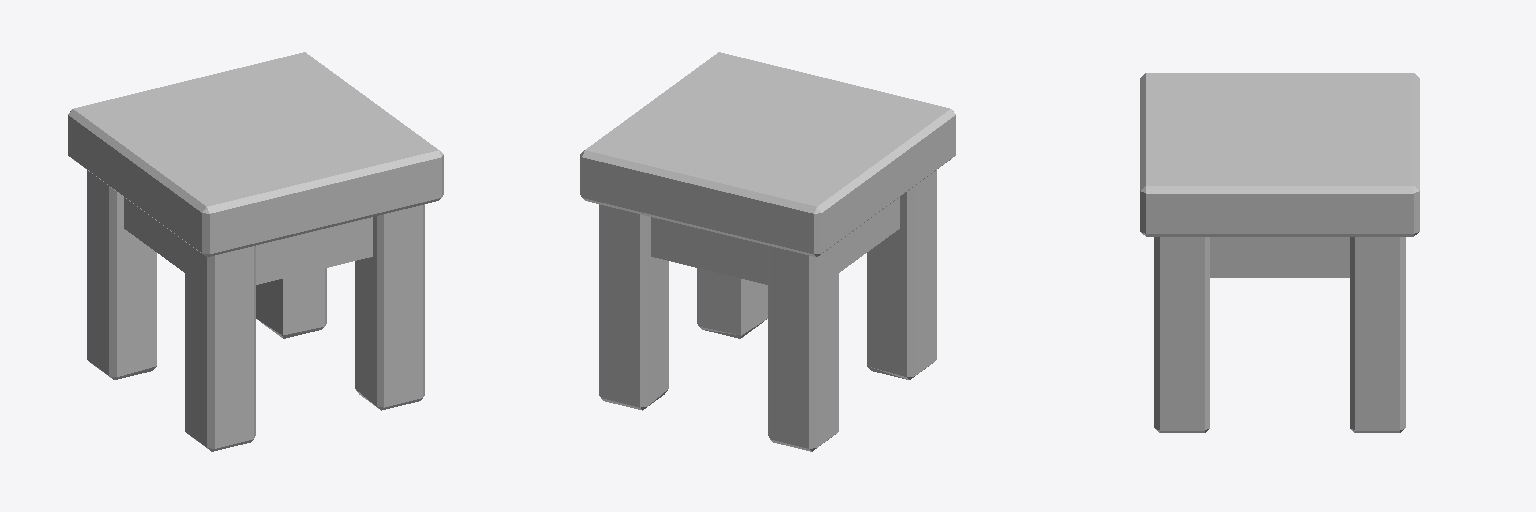
File: table_small.obj
3 views of the same model, side by side, from view 1: azimuth 30°, elevation 25°; view 2: azimuth 150°, elevation 25°; view 3: azimuth 270°, elevation 25° (orthographic).
Visible parts, largest first — view 1: table_small_Cube.005; view 2: table_small_Cube.005; view 3: table_small_Cube.005.
Boxes of the visible parts, <box> form: table_small_Cube.005: <box>68,52,443,451</box>; table_small_Cube.005: <box>580,52,955,451</box>; table_small_Cube.005: <box>1140,73,1419,432</box>.
Size of the model in its own units: 1 by 1 by 1.